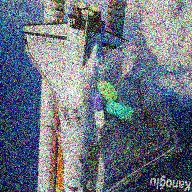러키펜정: (68, 89, 84, 109)
씨엠지세파클러캡슐: (92, 92, 105, 129)
에르도캡슐: (105, 101, 134, 122)
휴티렌정: (97, 81, 118, 102)
